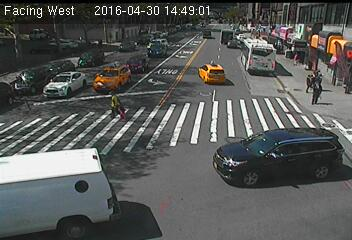neg: (184, 158, 207, 188), (83, 139, 100, 161), (240, 122, 256, 144), (141, 37, 155, 56), (161, 103, 175, 122), (177, 4, 191, 22), (195, 62, 206, 76), (197, 29, 208, 43), (147, 4, 156, 17), (231, 32, 238, 41)
pos: (102, 89, 125, 120), (307, 78, 328, 105), (301, 68, 317, 90), (315, 68, 327, 83), (292, 51, 302, 66)
